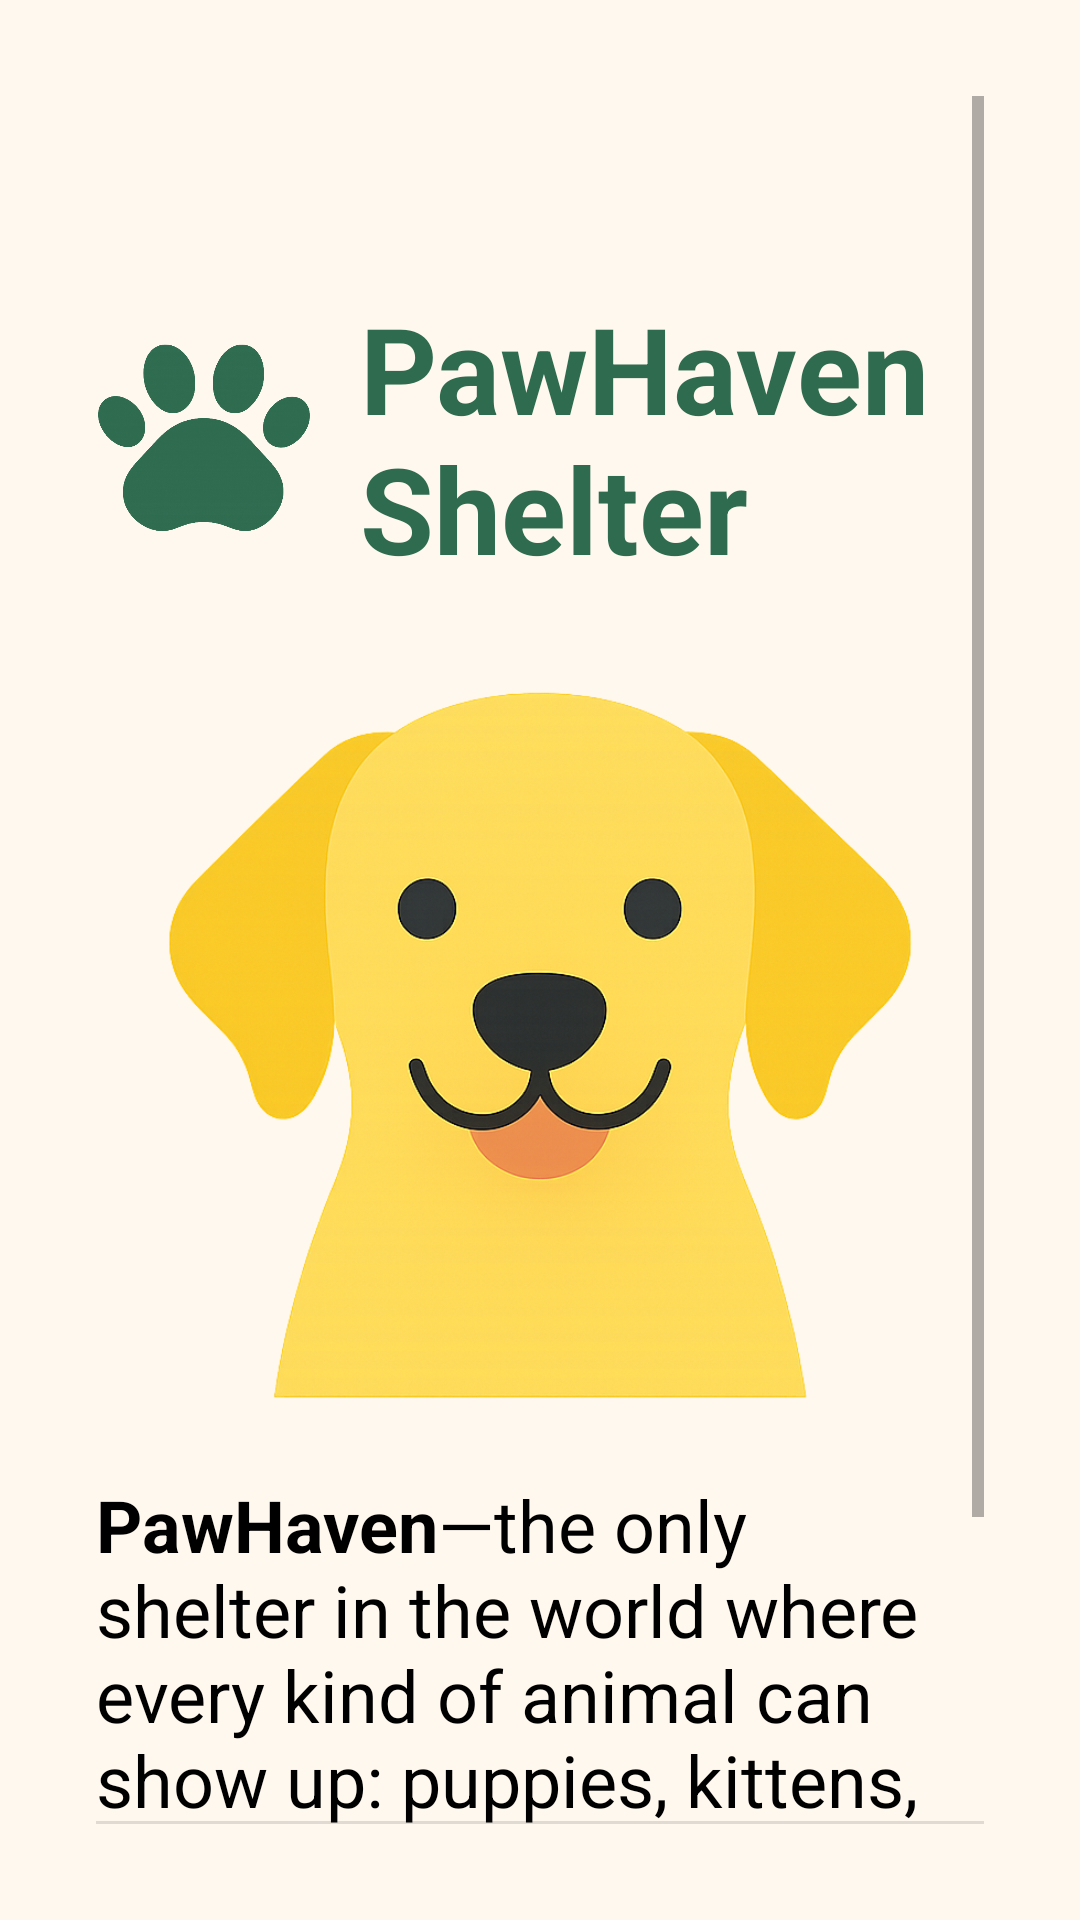

Locate icon controls on the screen. Image size 1080 x 1920, boxes as (x1, y1, x2, y2).
Paw icon: (98, 344, 310, 531)
